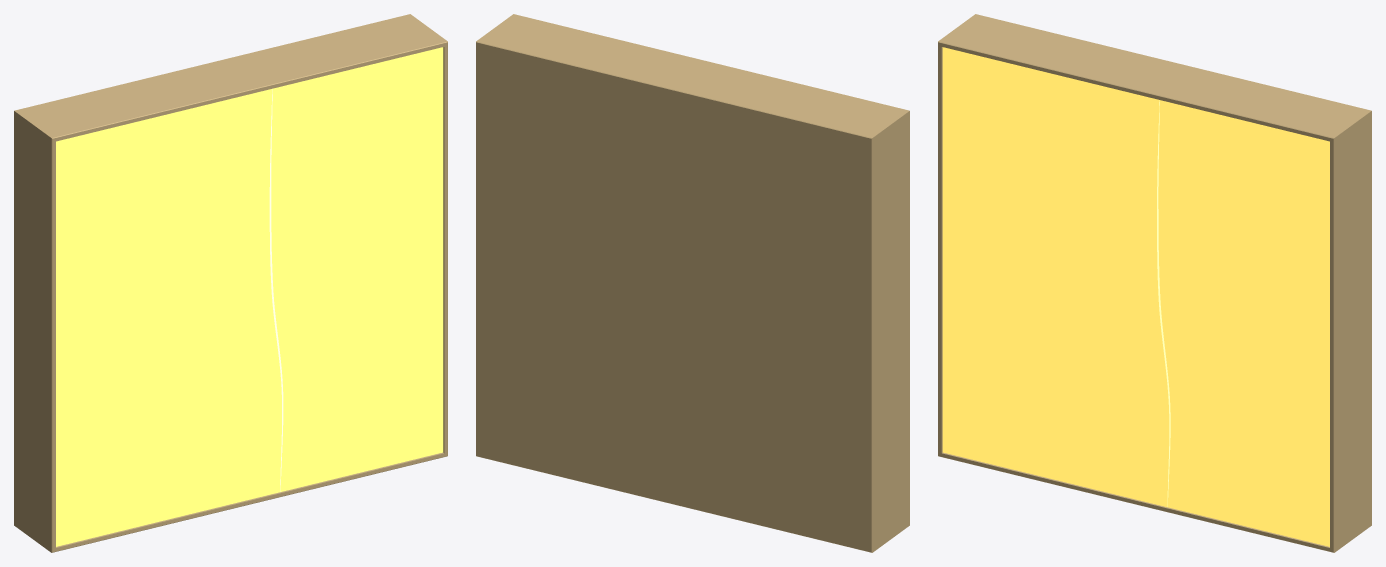
File: lightbox-wall.glb
3 views of the same model, side by side, from view 1: azimuth 30°, elevation 25°; view 2: azimuth 150°, elevation 25°; view 3: azimuth 330°, elevation 25° (orthographic).
Parts seen in each view (by area): view 1: LBW-face, LBW-frame, LBW-seam; view 2: LBW-back, LBW-frame; view 3: LBW-face, LBW-frame, LBW-seam.
Boxes of the visible parts, left/top/right/bottom form: LBW-face: left=56, top=47, right=443, bottom=546; LBW-frame: left=14, top=14, right=447, bottom=552; LBW-seam: left=269, top=89, right=283, bottom=491; LBW-back: left=487, top=57, right=860, bottom=537; LBW-frame: left=476, top=14, right=909, bottom=552; LBW-face: left=942, top=47, right=1329, bottom=546; LBW-frame: left=938, top=14, right=1371, bottom=552; LBW-seam: left=1157, top=100, right=1170, bottom=506.
Size of the model in its own units: 0.6 by 0.6 by 0.1.
